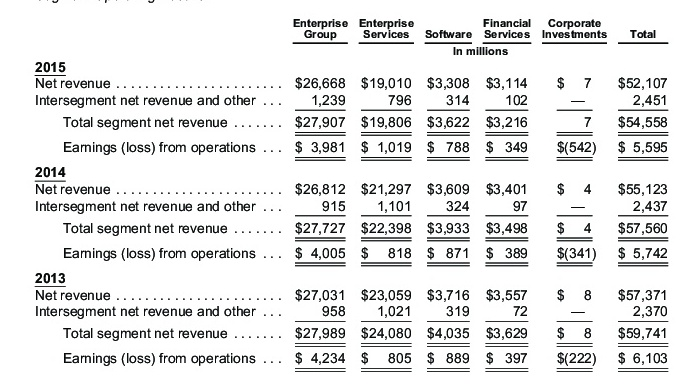table: (0, 0, 687, 387)
